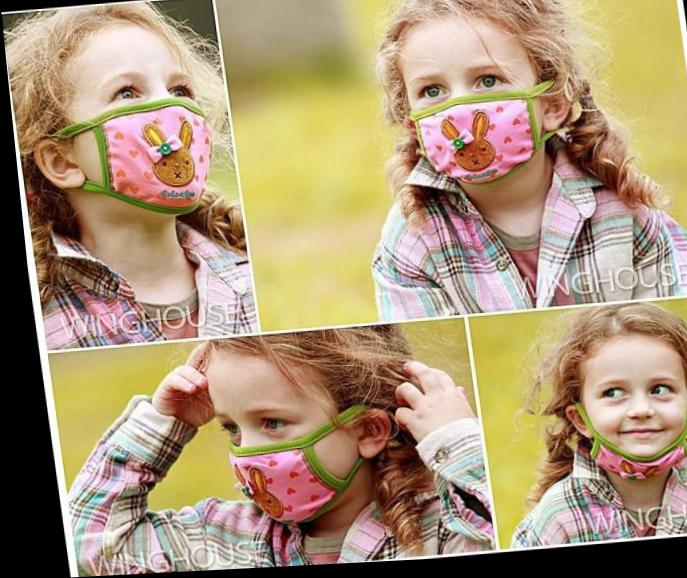OK: (64, 62, 224, 216), (204, 400, 339, 530), (400, 65, 526, 187)
WRONG: (572, 364, 680, 482)
